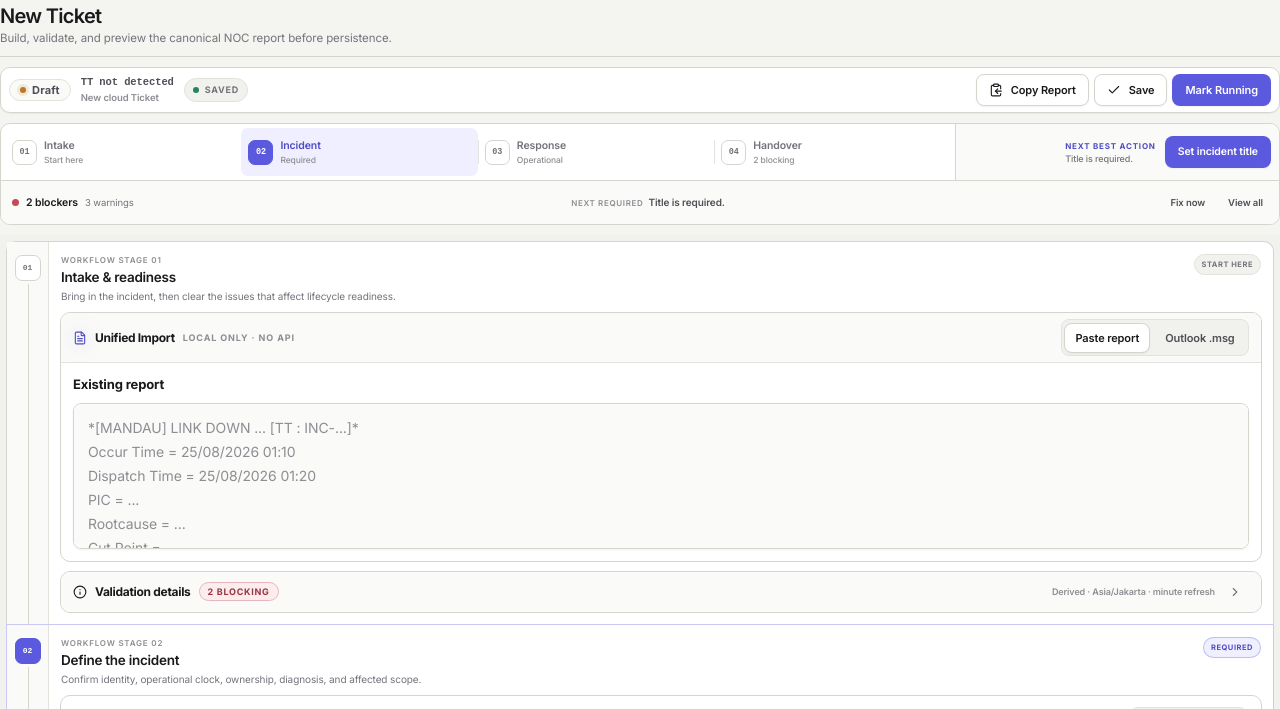
Template Generator workflow › smart-pastes an existing report into generator fields and Progress Timeline
The width and height of the screenshot is (1280, 709).
Replace the text in the text box labelled "Existing report" with "*[MANDAU] LINK DOWN AT DWDM 100315_RASUNA <> 100399_CANGKUDU [TT : INC-20260822-00015684]* Impact 1. ❌ [FLP_3rd_MANDAU][Open - Major] DOWN - IMPACTED-LINK Occur Time = 22/08/2026 13:16 Dispacth Time =": {"x": 661, "y": 476} [73,403,1249,549]
(page scrolled)
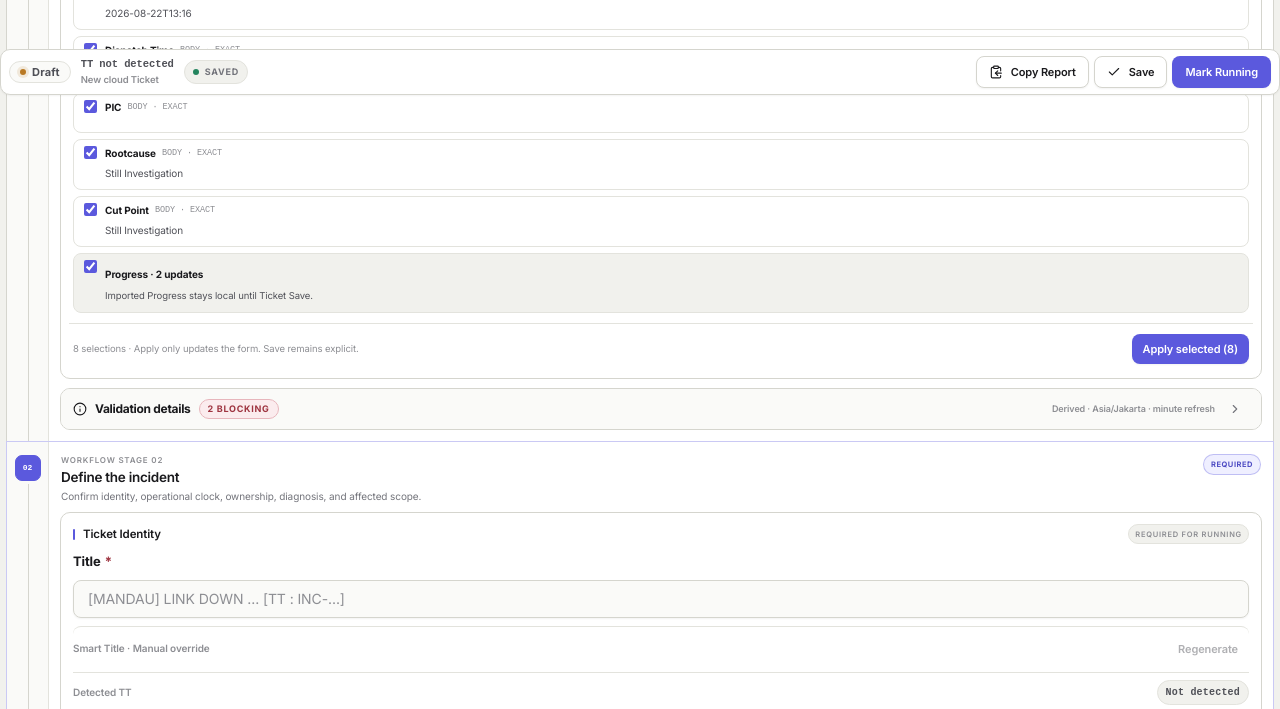
Expected: the text "Progress · 2 updates" is shown, [105,268,203,280]
Click the button "Apply selected (8)": {"x": 1190, "y": 349} [1132,334,1249,364]
(page scrolled)
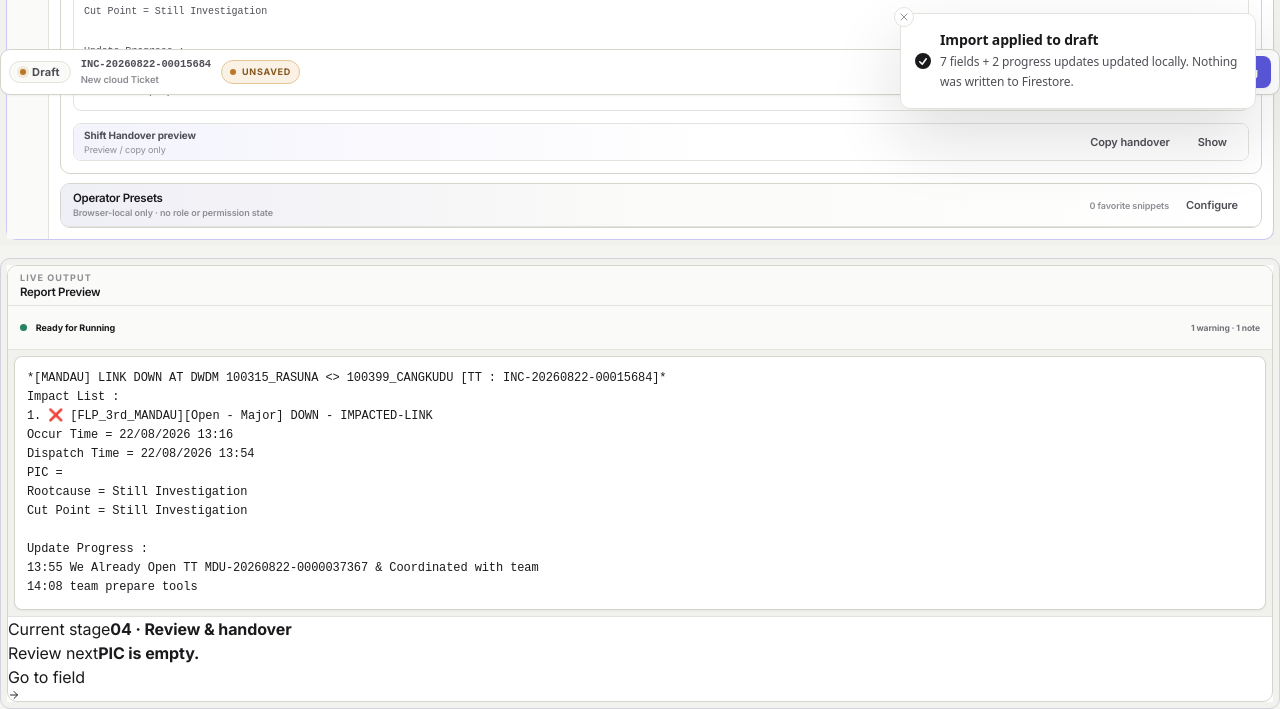
Expected: the text named "Generated NOC report" shows "INC-20260822-00015684", [27,371,666,594]
